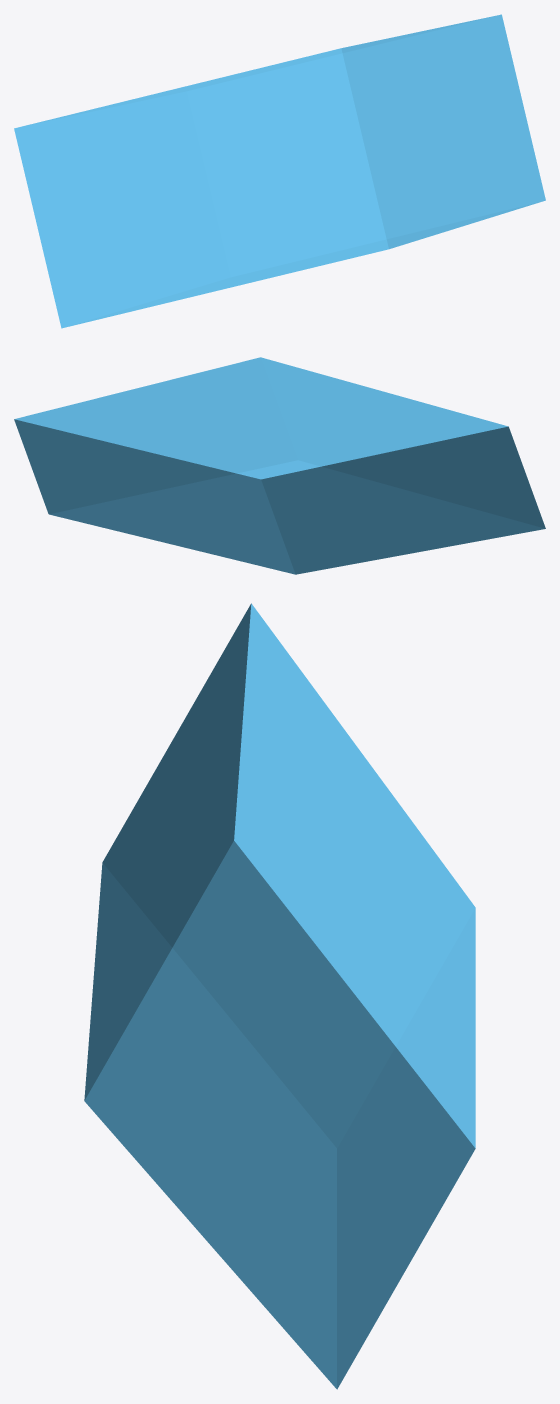
The model's file is Event_420604493_HBrechit_24.fbx.
3 renders of one model, top to bottom at view 1: azimuth 30°, elevation 25°; view 2: azimuth 150°, elevation 25°; view 3: azimuth 270°, elevation 25°, orthographic. The views are drawn at different scales.
Parts seen in each view (by area): view 1: Model; view 2: Model; view 3: Model.
Part boxes in pixels (x1,y1,x2,y2): Model: (14,14,545,328); Model: (14,357,545,574); Model: (84,603,475,1389).
Size of the model in its own units: 1.36 by 0.5431 by 0.524.
